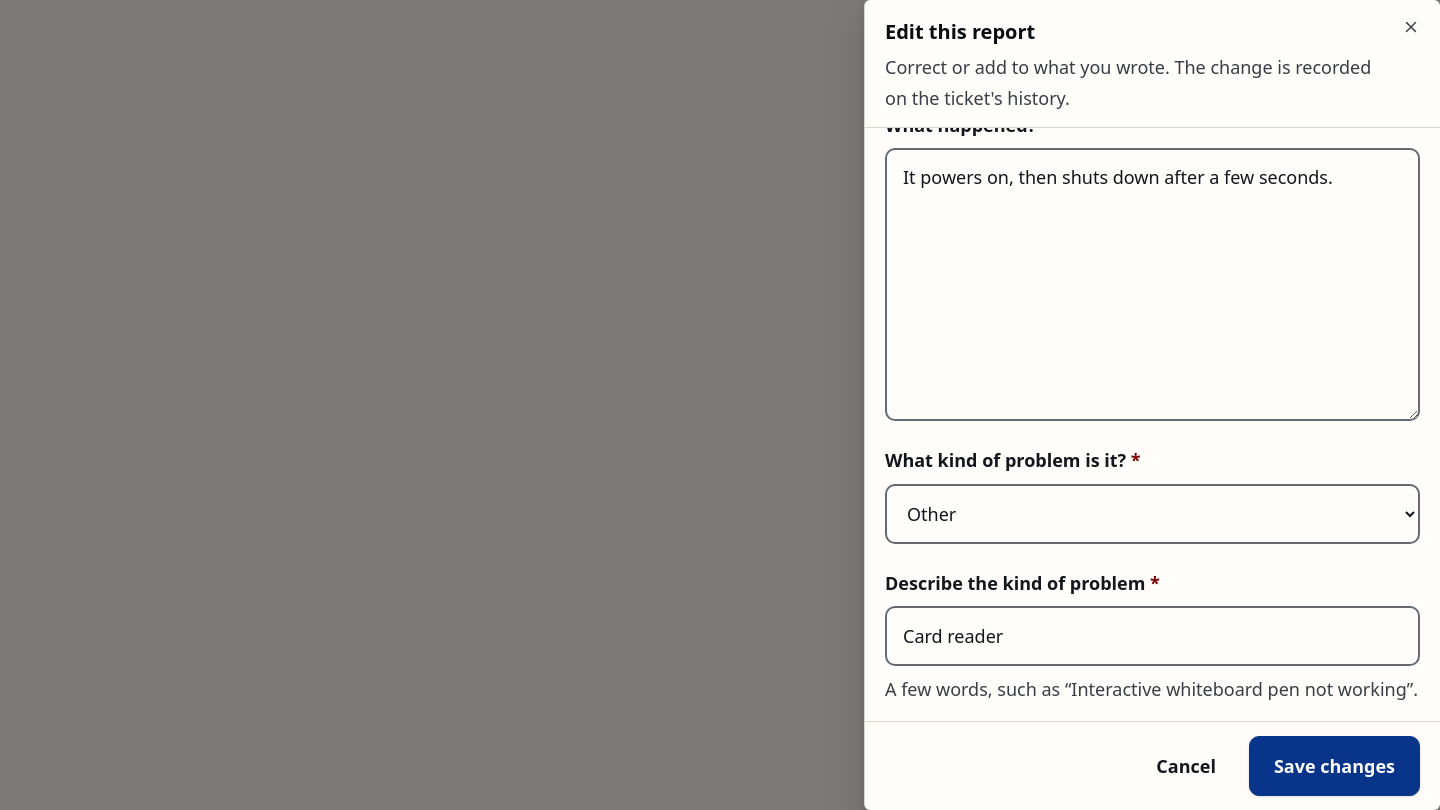
Test: TicketEditDrawer — the "Other" description › will not let an edit erase a description the ticket already has
(page scrolled)
Clear the field labelled "Describe the kind of problem *" at (1152, 636), box [885, 606, 1420, 666]
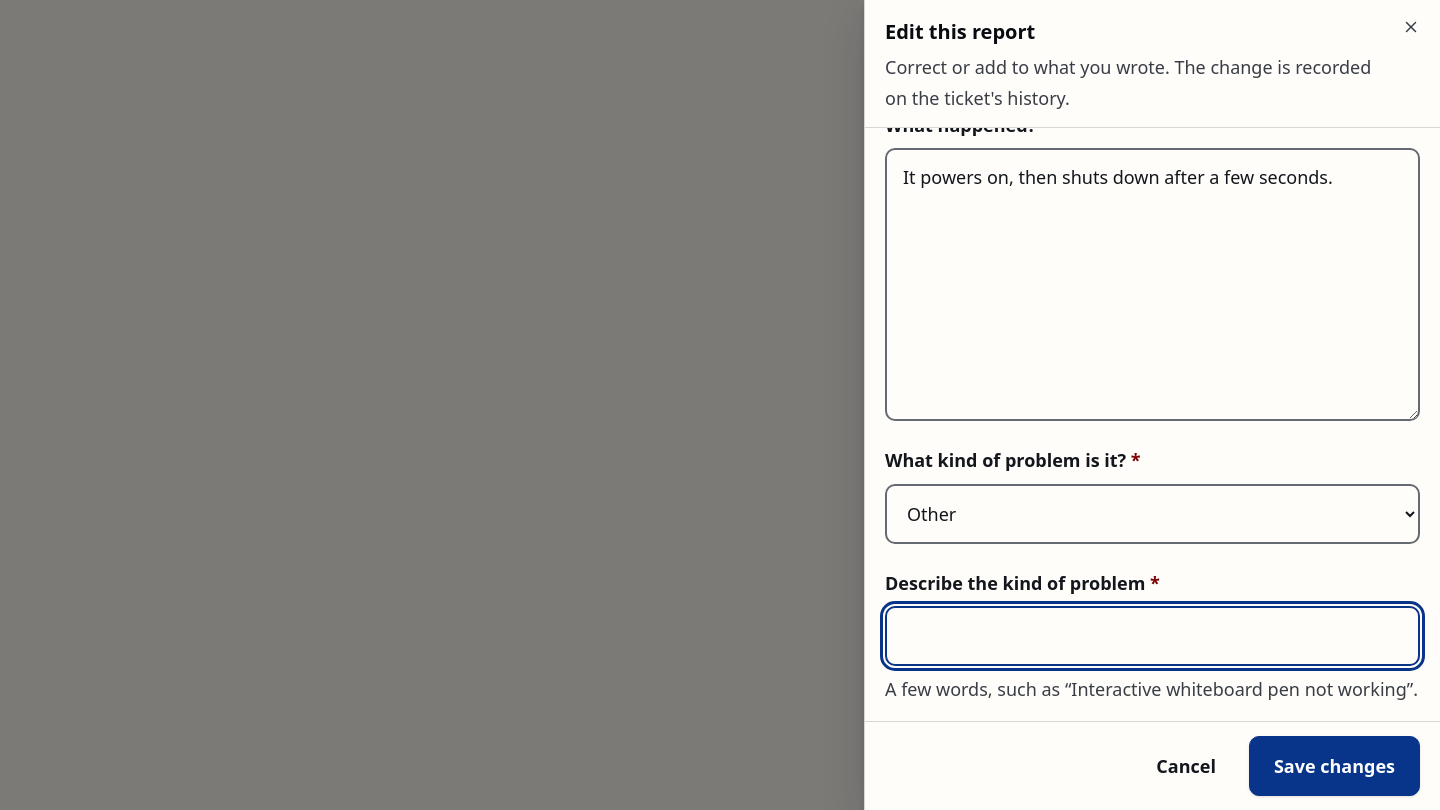
Click the button "Save changes".
click(1334, 766)  # box [1249, 736, 1420, 796]
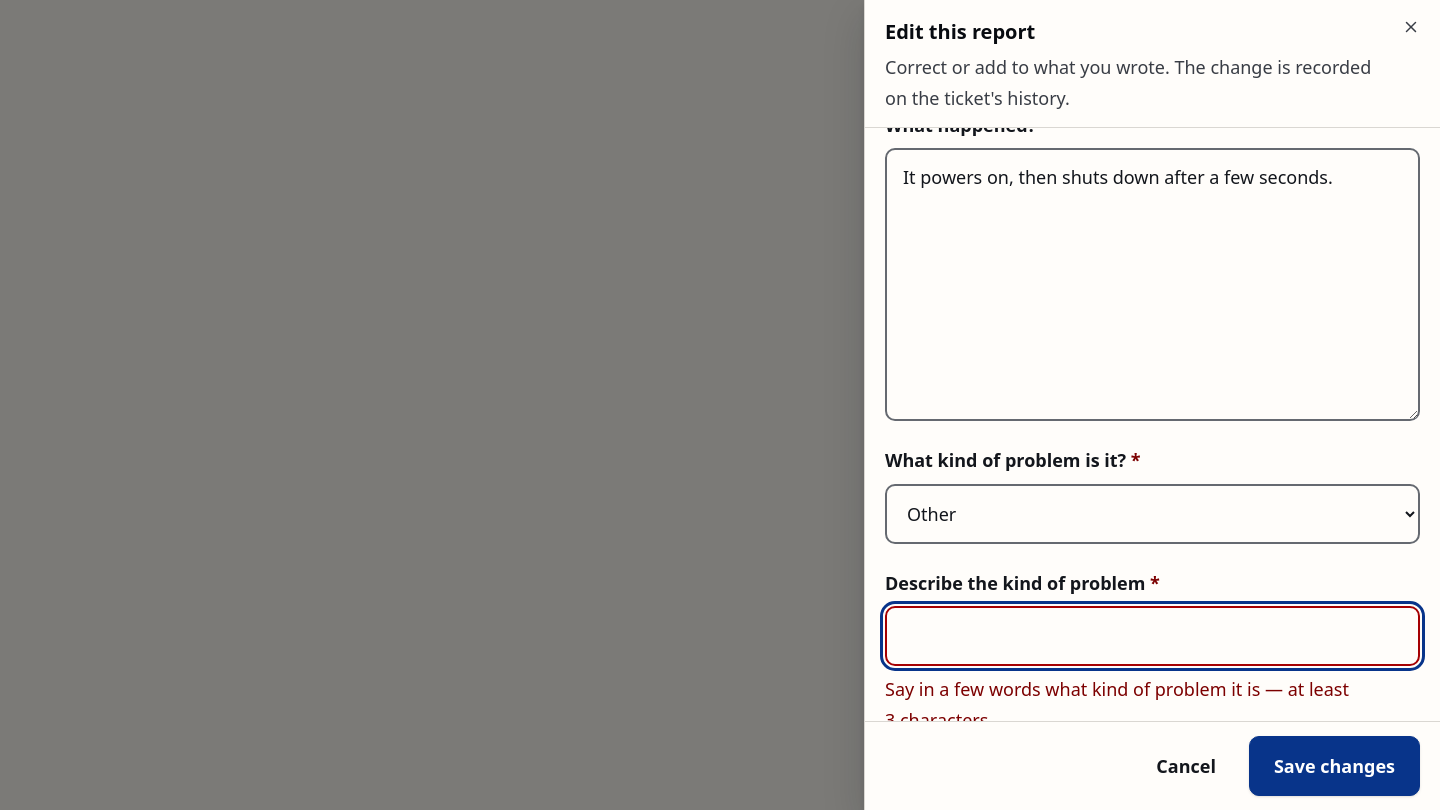
Expected: the text "Say in a few words what kind of problem it is — at least 3 characters." is shown, [885, 674, 1420, 721]
